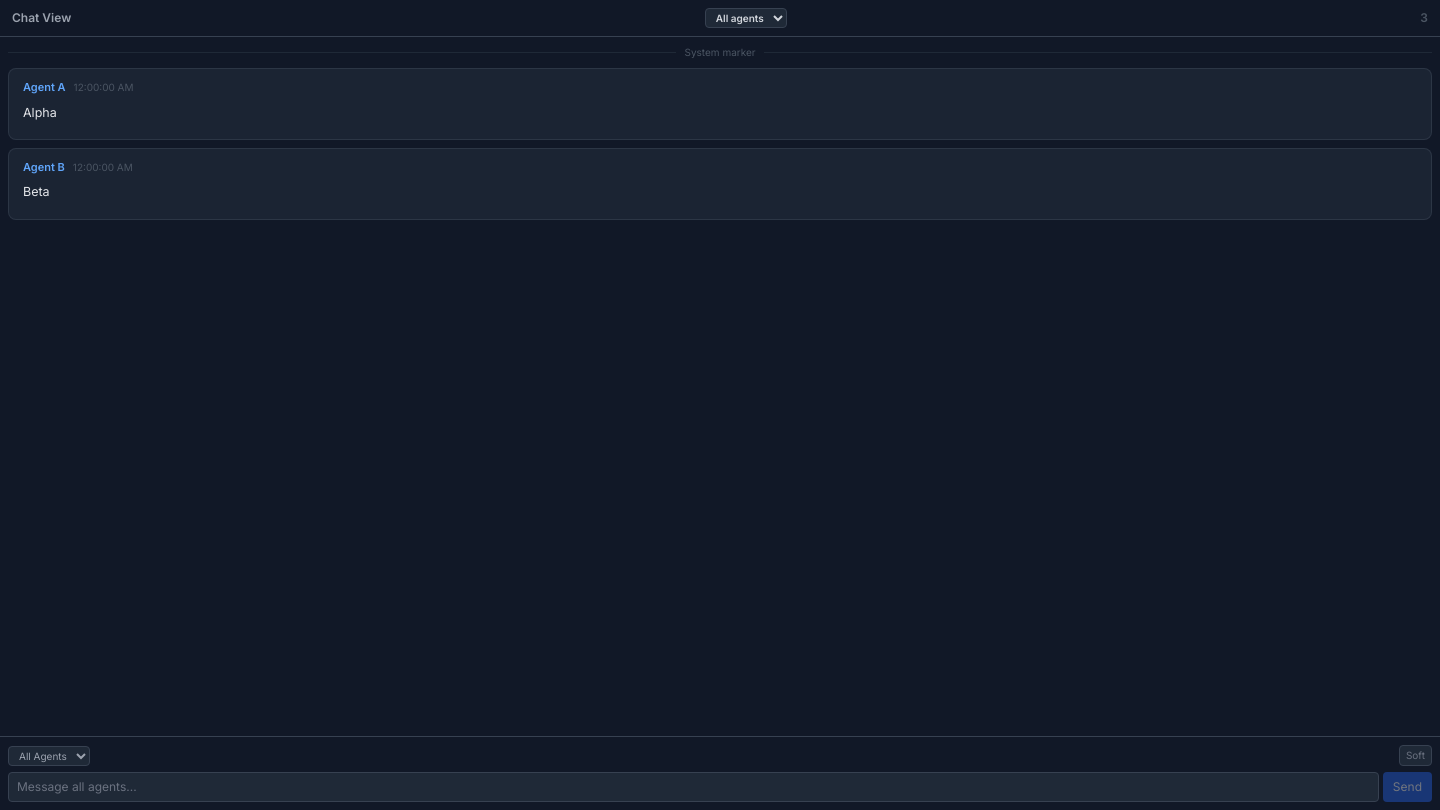
Scenario: ChatPanel client rendering contracts › filters by agent without hiding system messages
This screenshot has width=1440, height=810.
(page scrolled)
Step 1. Select "Agent A" in the dropdown in the row of "Chat View" → (746, 18), box [705,8,787,28]
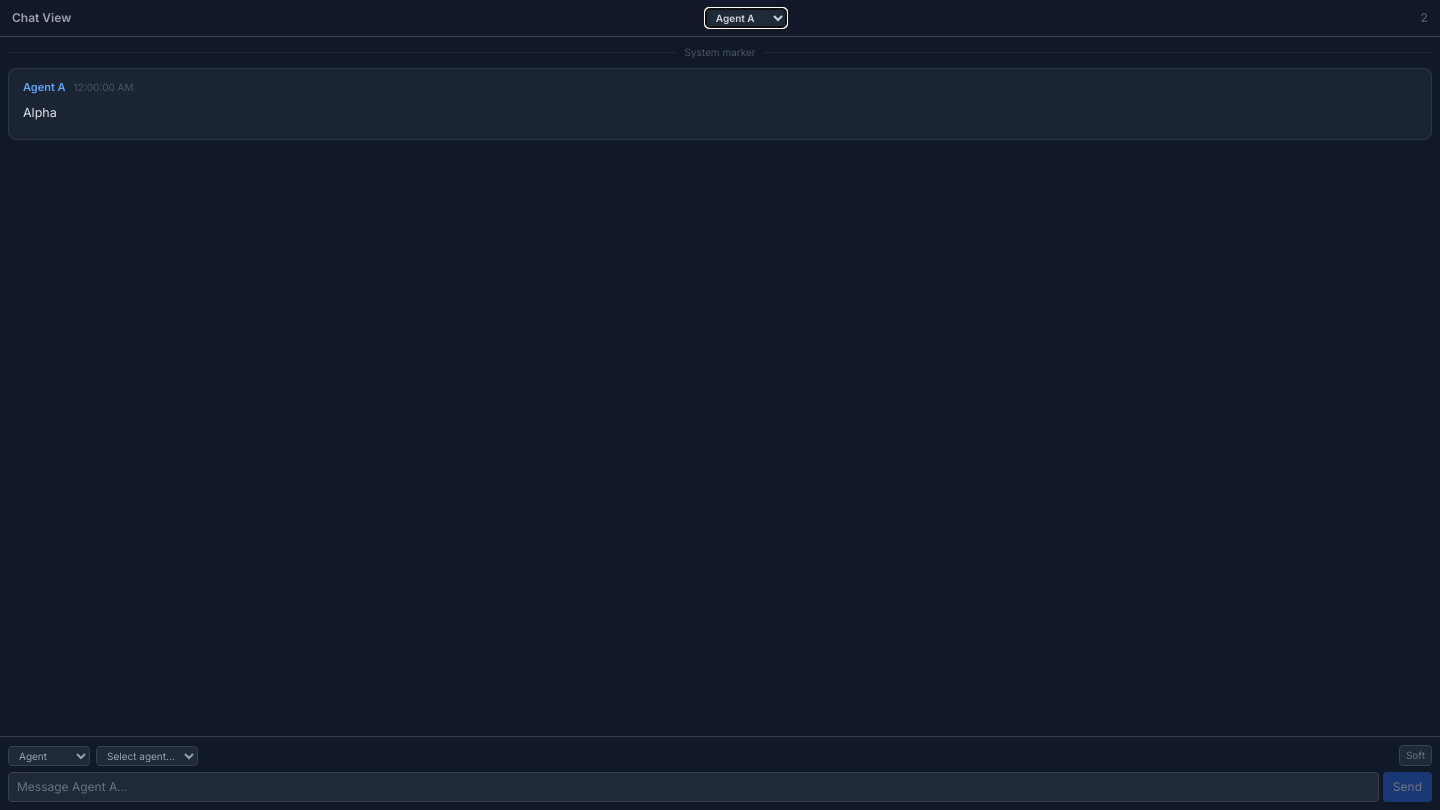
Expected: the text "System marker" is shown, [684,45,756,60]
Now the text "Beta" is gone
